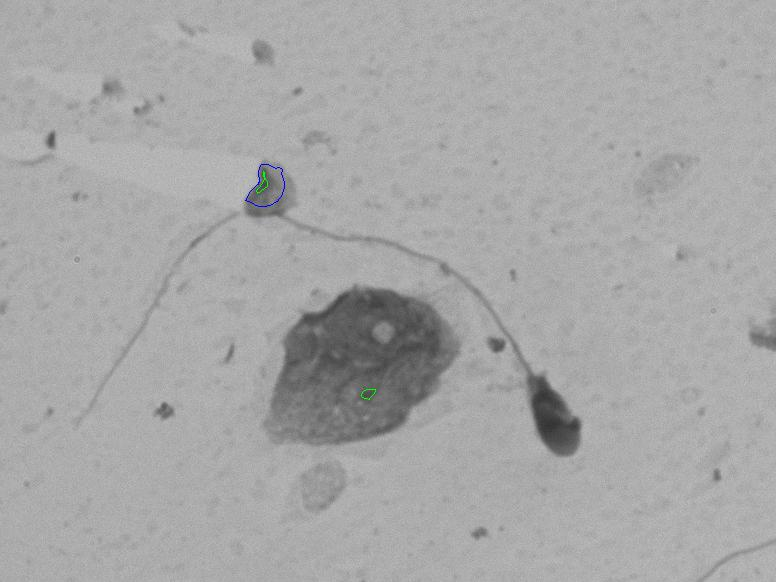Abnormal: (46, 191, 603, 472)
